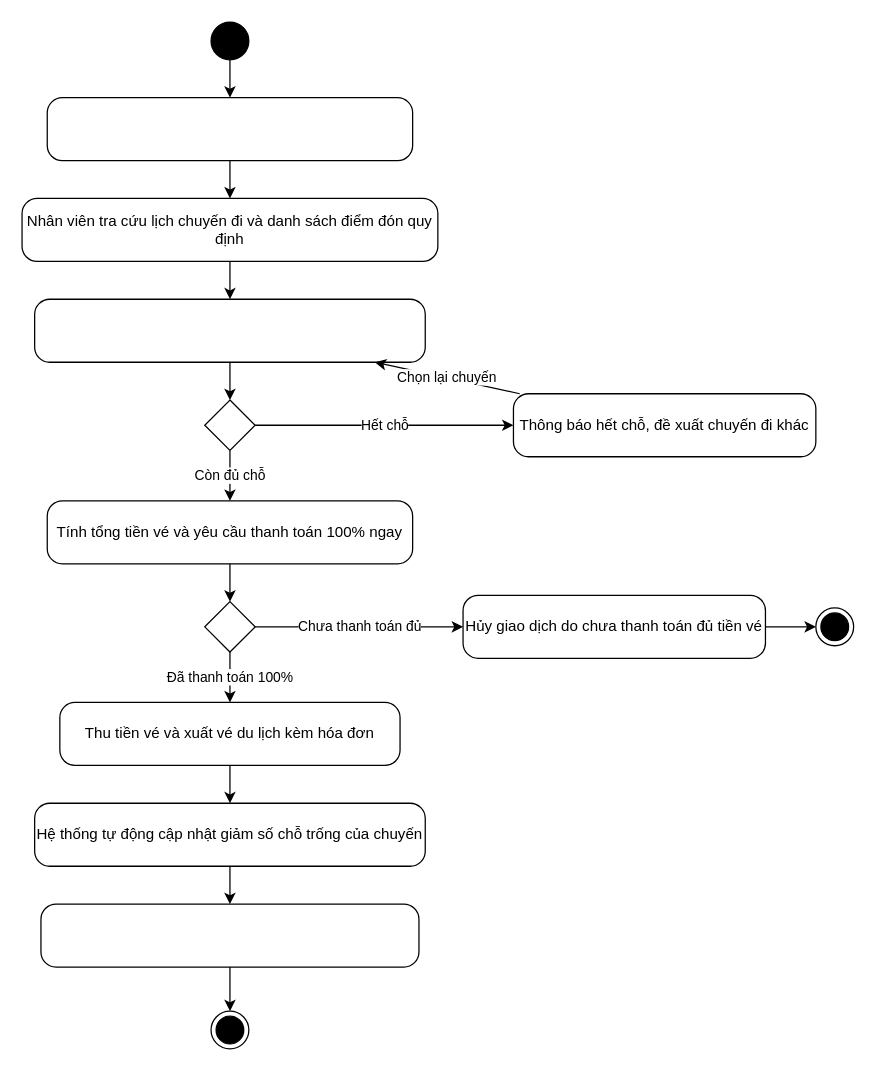
The diagram is 876 pixels wide and 1071 high, and some of its shapes have lost their labels. Here are the shapes that lost their labels. From the top down, the centre of each, then its label:
At point 229,128: "Khách lẻ đến điểm bán vé, yêu cầu mua vé theo tour".
At point 229,330: "Khách chọn chuyến đi, điểm đón và số lượng vé (< 12)".
At point 229,935: "Bàn giao vé cho khách và thông báo giờ đón quy định".
